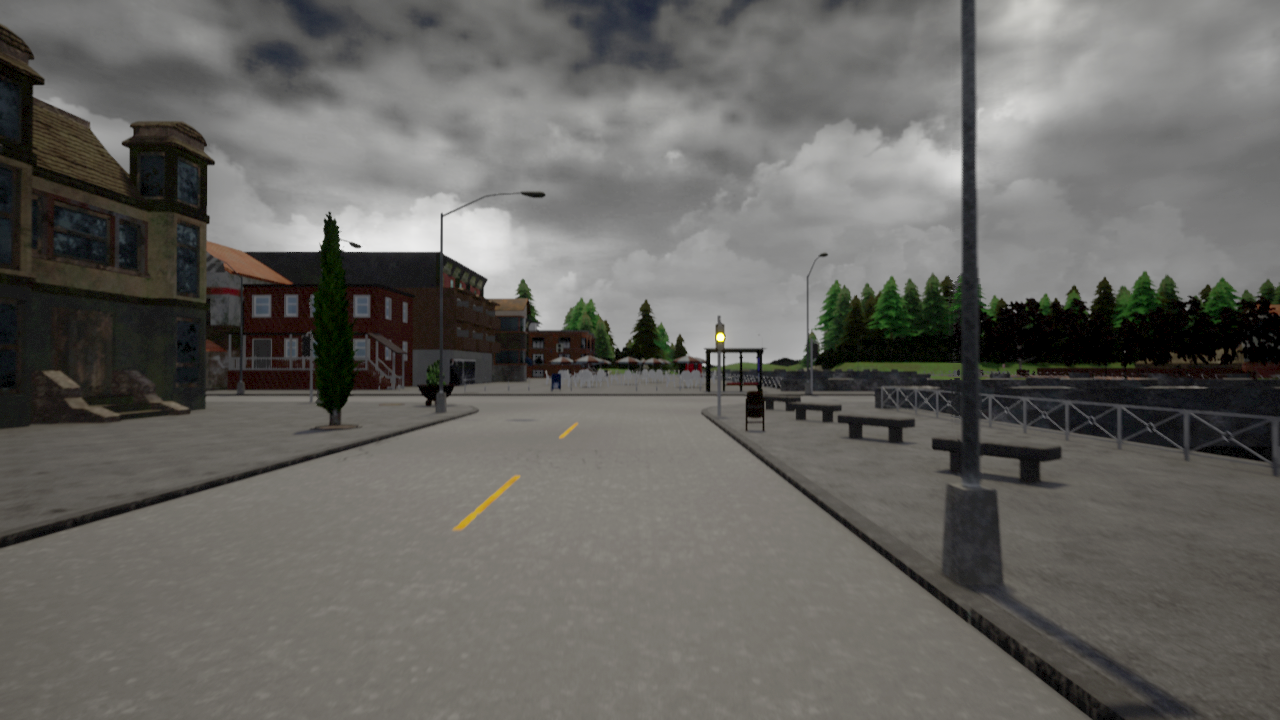yellow: (713, 323, 726, 352)
